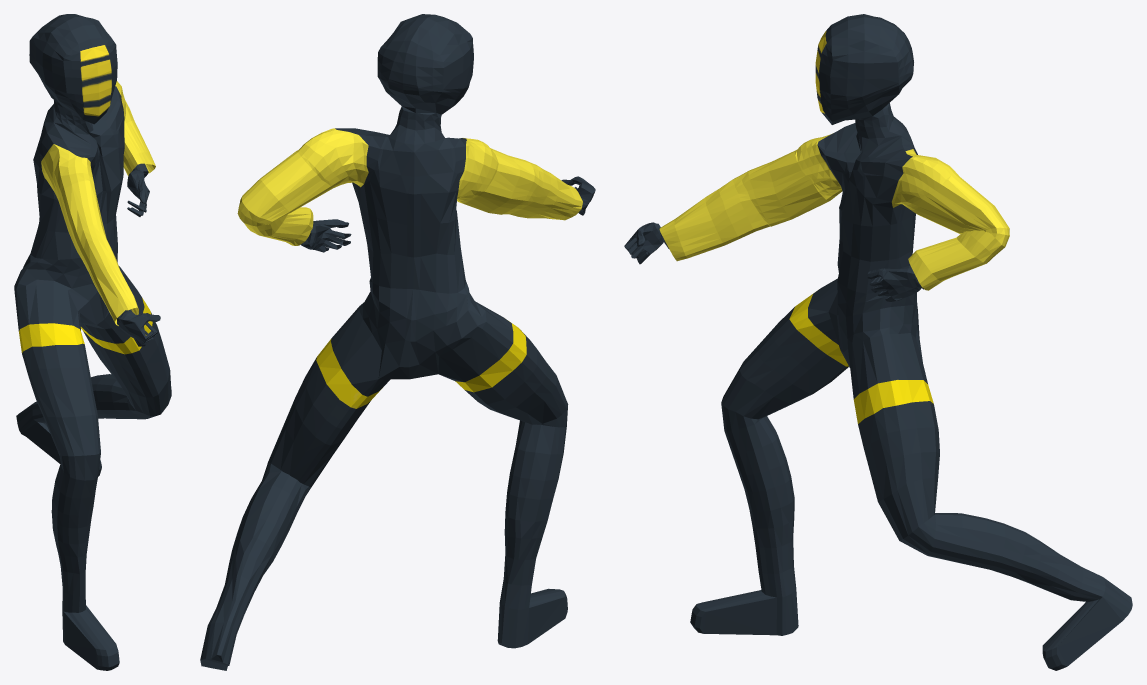
Rendered from Sentry_WR_000020.obj.
The picture shows the model from 3 angles, left to right: view 1: azimuth 30°, elevation 25°; view 2: azimuth 150°, elevation 25°; view 3: azimuth 270°, elevation 25°; orthographic projection. The views are drawn at different scales.
Visible parts, largest first — view 1: Cube; view 2: Cube; view 3: Cube.
Boxes of the visible parts, box(x1,y1,x2,y2) form: Cube: box(14, 14, 171, 670); Cube: box(200, 14, 595, 670); Cube: box(624, 14, 1132, 670).
Size of the model in its own units: 1.23 by 3.6 by 2.61.
